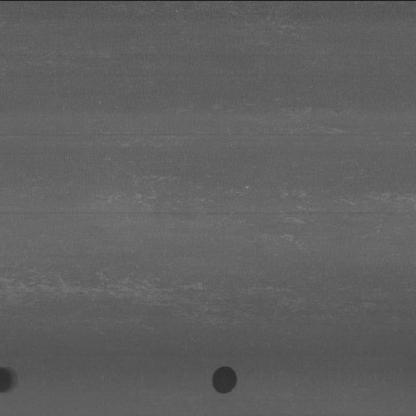oil_spot: (201, 361, 250, 400), (0, 361, 29, 399)
